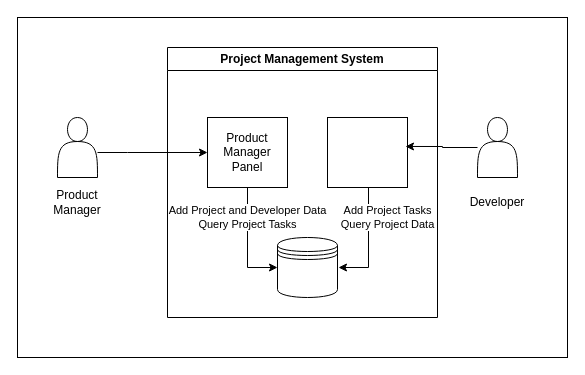
Some shapes in this 585 by 375 pixel diagram are drawn without their labels. Each missing label, with the centre of its shape:
"Developer Panel" belongs at point 367,152.
"SQLite Database" belongs at point 307,267.
